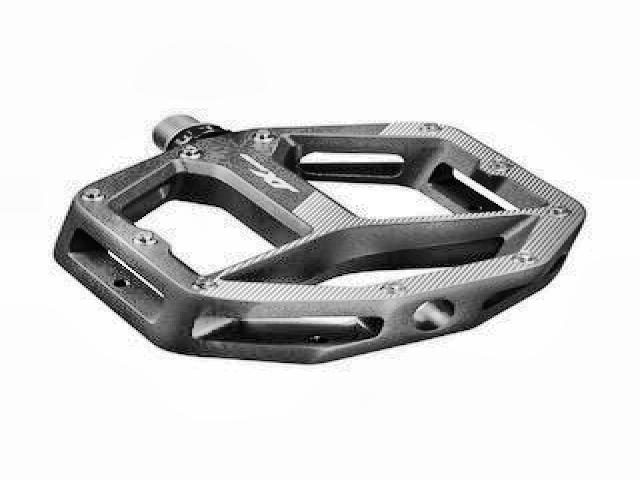pedal: (47, 112, 591, 374)
